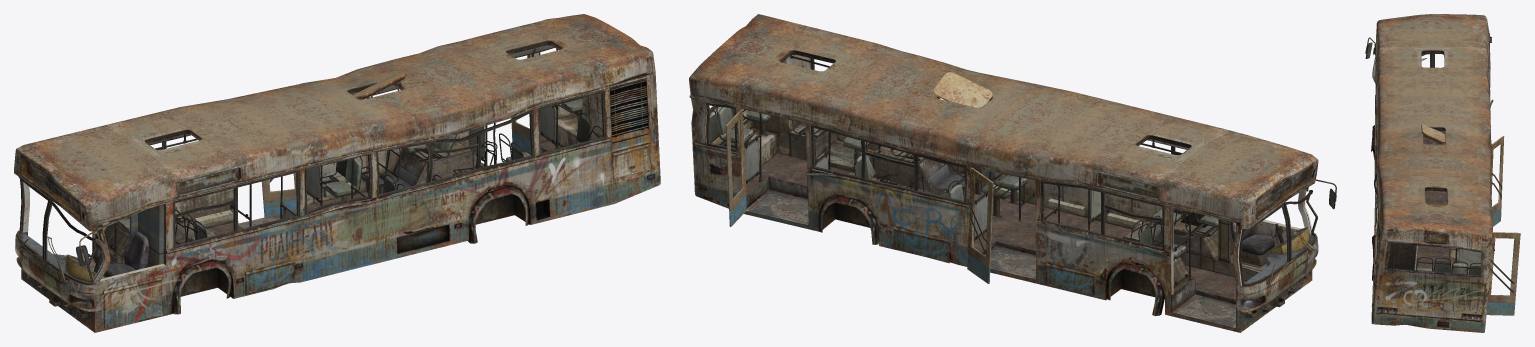
The picture shows the model from 3 angles, left to right: view 1: azimuth 30°, elevation 25°; view 2: azimuth 150°, elevation 25°; view 3: azimuth 270°, elevation 25°; orthographic projection. The views are drawn at different scales.
Visible parts, largest first — view 1: mesh_0_veh\bus_01_0, mesh_1_veh\bus_02_0, mesh_3_veh\bus_04_0, mesh_4_veh\bus_05_0, mesh_2_veh\bus_03_0, mesh_5_metal\metal_tile_0; view 2: mesh_0_veh\bus_01_0, mesh_1_veh\bus_02_0, mesh_2_veh\bus_03_0, mesh_3_veh\bus_04_0, mesh_4_veh\bus_05_0, mesh_5_metal\metal_tile_0; view 3: mesh_0_veh\bus_01_0, mesh_4_veh\bus_05_0, mesh_2_veh\bus_03_0, mesh_1_veh\bus_02_0, mesh_5_metal\metal_tile_0, mesh_3_veh\bus_04_0.
Part boxes in pixels (x1,y1,x2,y2): mesh_0_veh\bus_01_0: (14, 14, 660, 332); mesh_1_veh\bus_02_0: (76, 75, 659, 332); mesh_3_veh\bus_04_0: (15, 45, 606, 285); mesh_4_veh\bus_05_0: (65, 49, 602, 282); mesh_2_veh\bus_03_0: (22, 40, 606, 284); mesh_5_metal\metal_tile_0: (103, 141, 560, 277); mesh_0_veh\bus_01_0: (689, 14, 1318, 332); mesh_1_veh\bus_02_0: (689, 95, 1336, 332); mesh_2_veh\bus_03_0: (705, 50, 1312, 327); mesh_3_veh\bus_04_0: (705, 58, 1317, 293); mesh_4_veh\bus_05_0: (709, 55, 1309, 287); mesh_5_metal\metal_tile_0: (746, 153, 1246, 299); mesh_0_veh\bus_01_0: (1371, 14, 1492, 332); mesh_4_veh\bus_05_0: (1415, 136, 1520, 315); mesh_2_veh\bus_03_0: (1372, 50, 1490, 270); mesh_1_veh\bus_02_0: (1365, 33, 1494, 320); mesh_5_metal\metal_tile_0: (1415, 131, 1449, 271); mesh_3_veh\bus_04_0: (1374, 54, 1482, 275).
Size of the model in its own units: 14.71 by 3.8 by 4.37.
Materials: 7 (7 with a texture image).
